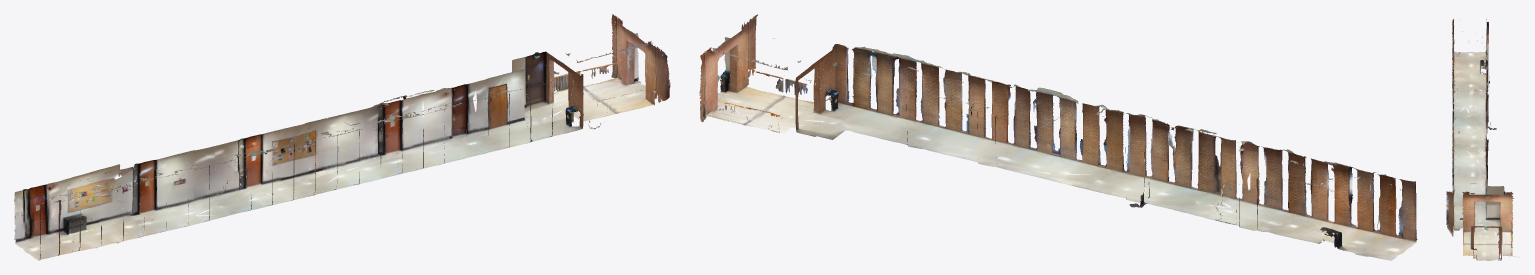
File: mid2a.glb
3 views of the same model, side by side, from view 1: azimuth 30°, elevation 25°; view 2: azimuth 150°, elevation 25°; view 3: azimuth 270°, elevation 25° (orthographic). The views are drawn at different scales.
Parts seen in each view (by area): view 1: mid2a_F2; view 2: mid2a_F2; view 3: mid2a_F2.
Part boxes in pixels (left/top/right/bottom): mid2a_F2: left=14, top=14, right=670, bottom=260; mid2a_F2: left=699, top=14, right=1417, bottom=260; mid2a_F2: left=1446, top=18, right=1515, bottom=260.
Size of the model in its own units: 36.06 by 3.54 by 5.42.
1 material, 1 textured.
